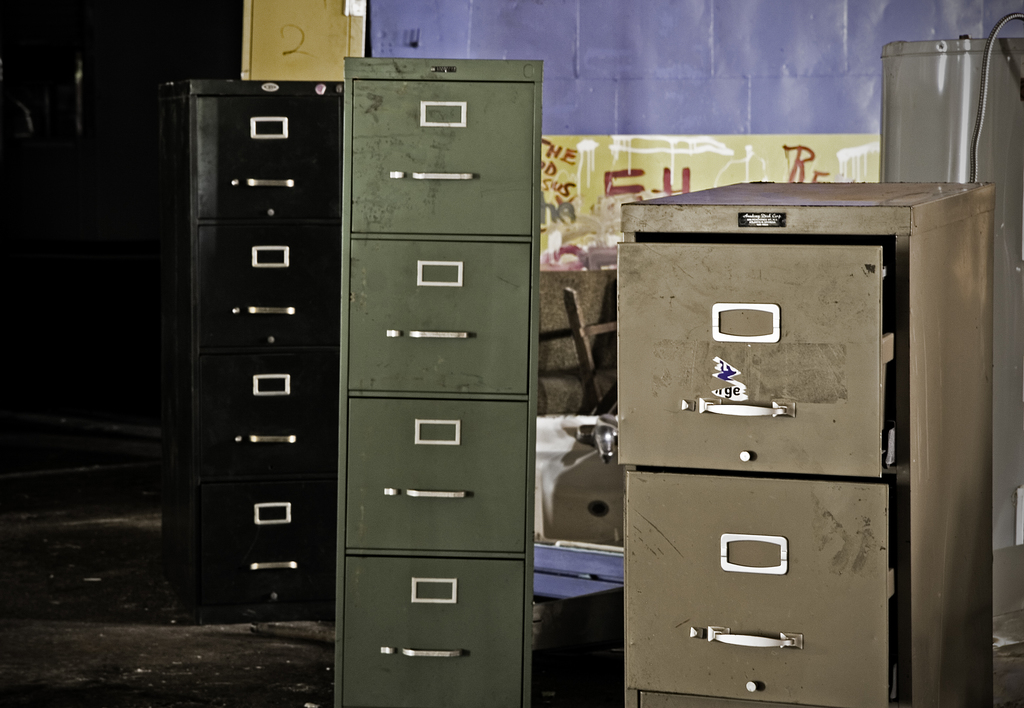cabinet door: (620, 239, 884, 476), (626, 476, 891, 708), (344, 554, 524, 708), (350, 397, 529, 550), (350, 241, 531, 391), (354, 86, 530, 237), (200, 103, 344, 228), (204, 231, 337, 364), (201, 484, 334, 607), (204, 365, 333, 486)
handle: (683, 394, 786, 431), (698, 624, 802, 657), (401, 644, 471, 667), (403, 481, 467, 506), (248, 552, 305, 580), (247, 298, 301, 326), (406, 167, 482, 185), (406, 325, 478, 343), (248, 432, 297, 450), (243, 175, 296, 191)
